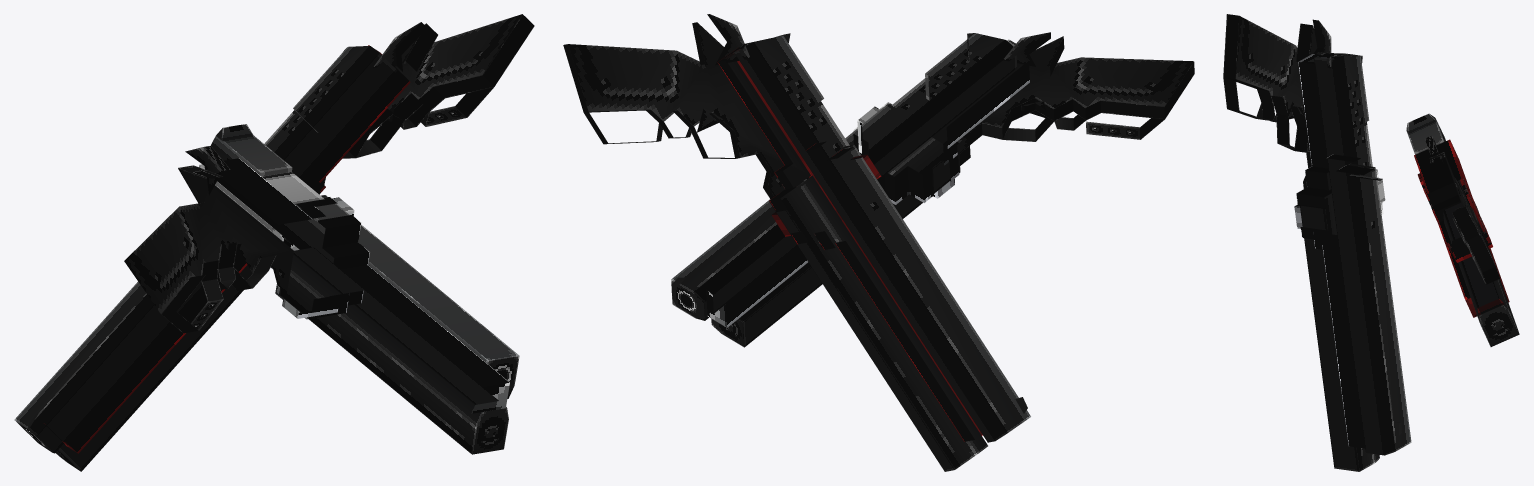
The model's file is ps2_save-icons_gungraveoverdose.glb.
3 views of the same model, side by side, from view 1: azimuth 30°, elevation 25°; view 2: azimuth 150°, elevation 25°; view 3: azimuth 270°, elevation 25° (orthographic). The views are drawn at different scales.
Visible parts, largest first — view 1: icon.ico; view 2: icon.ico; view 3: icon.ico.
Boxes of the visible parts, x1,y1,x2,y2 form: icon.ico: (14, 14, 534, 471); icon.ico: (563, 14, 1194, 471); icon.ico: (1223, 14, 1519, 471).
Bounding box in the file's own units: 4.11 × 2.86 × 2.34.
1 material, 1 textured.
